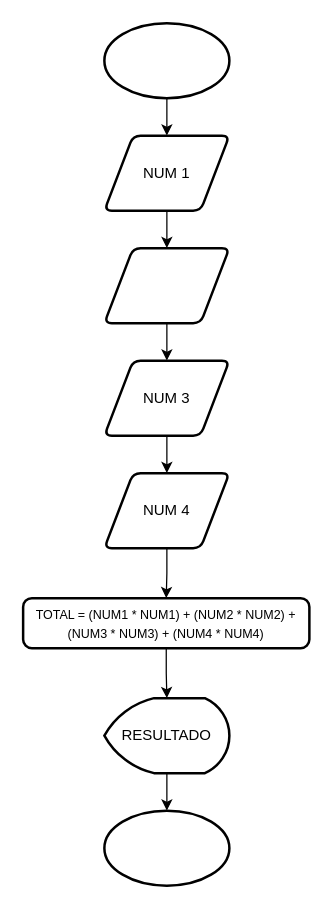
Some shapes in this 331 by 908 pixel diagram are drawn without their labels. The centre of each missing label's shape, as x and y in pixels:
"FIM" goes at pixel 166 847.
"INICIO" goes at pixel 166 60.
"NUM 2" goes at pixel 166 285.
